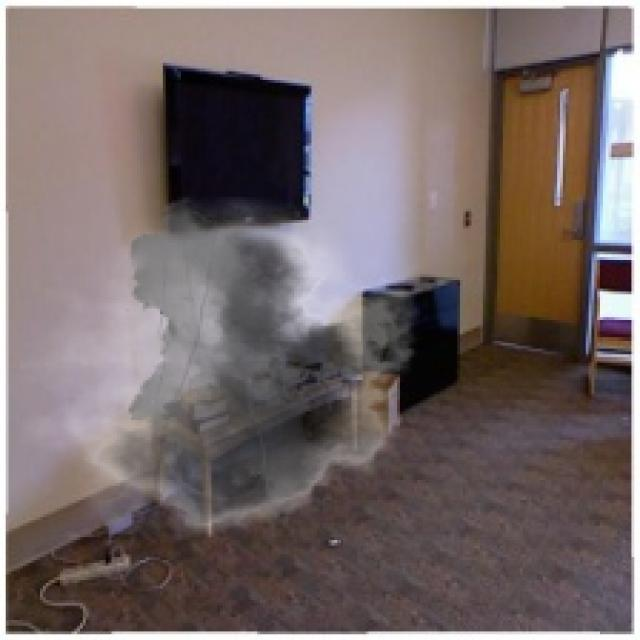smoke: (17, 197, 437, 554)
